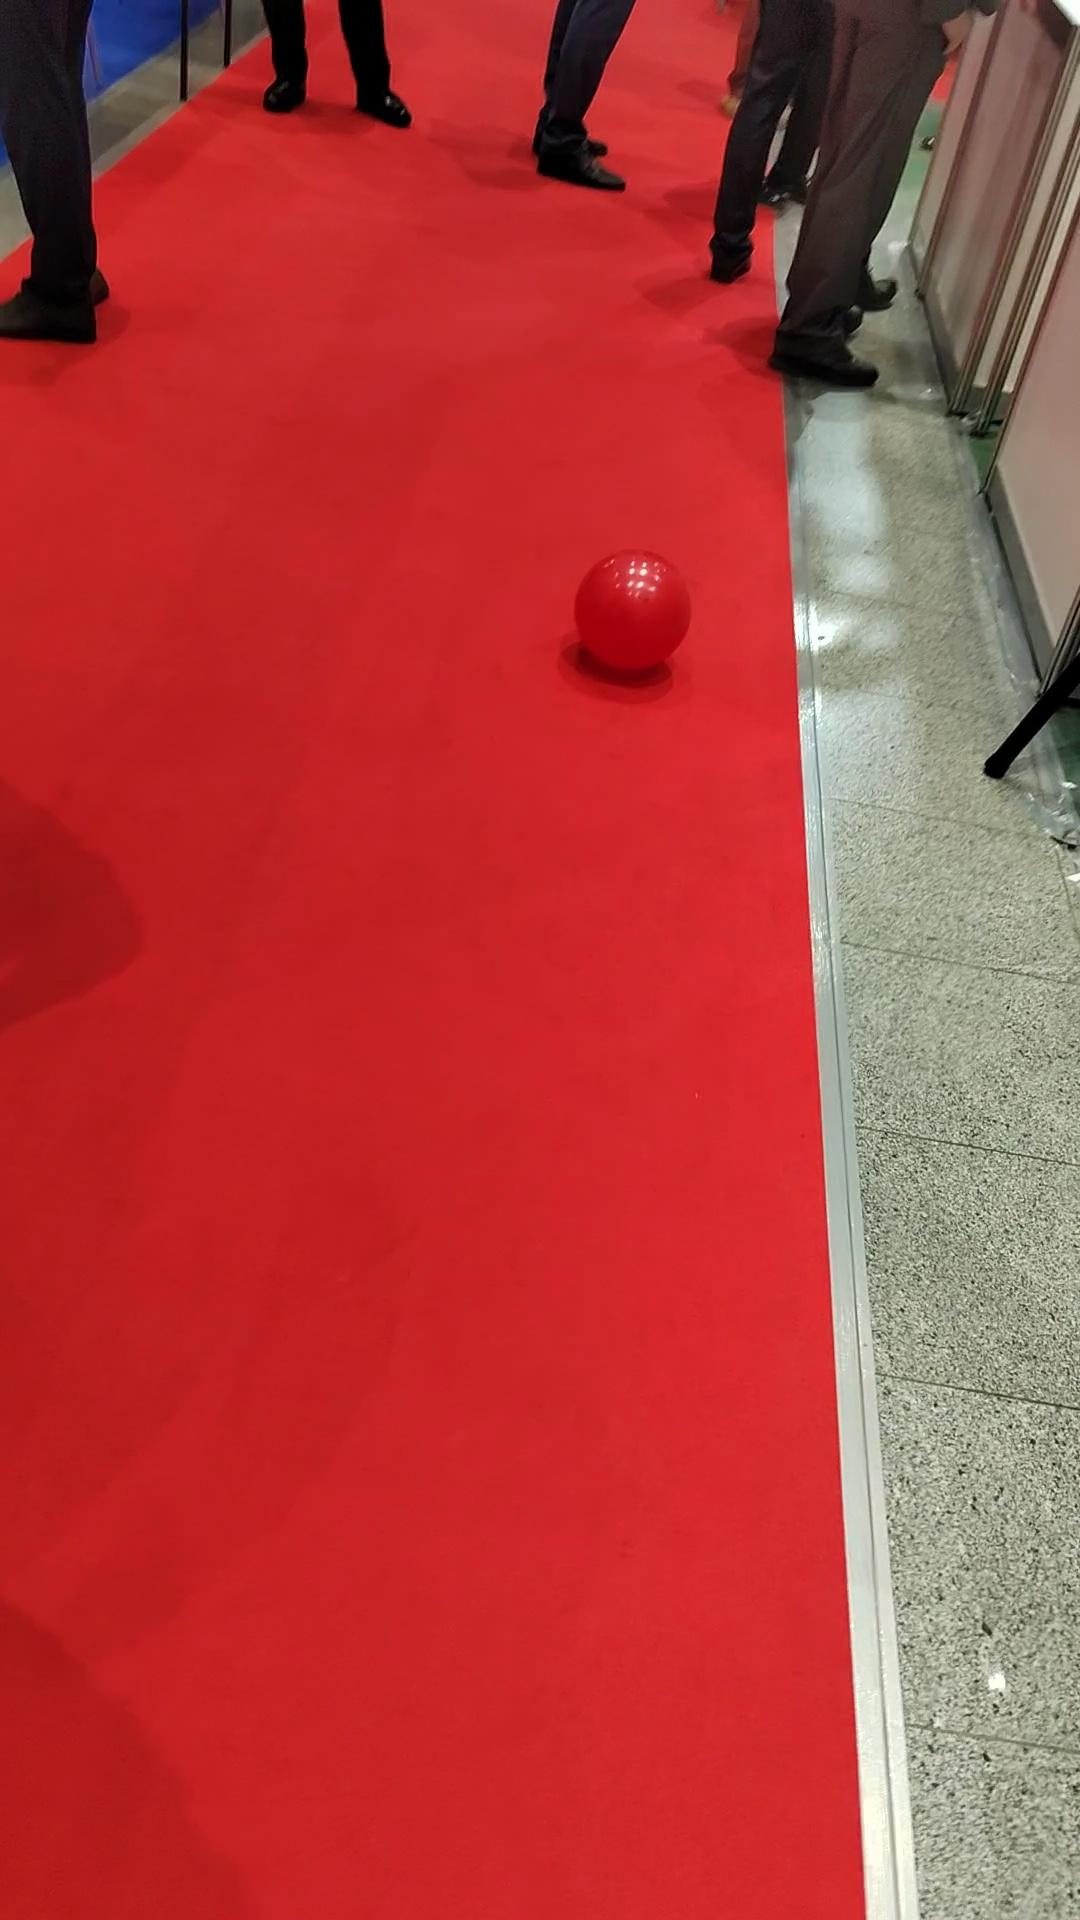red: (573, 550, 691, 674)
